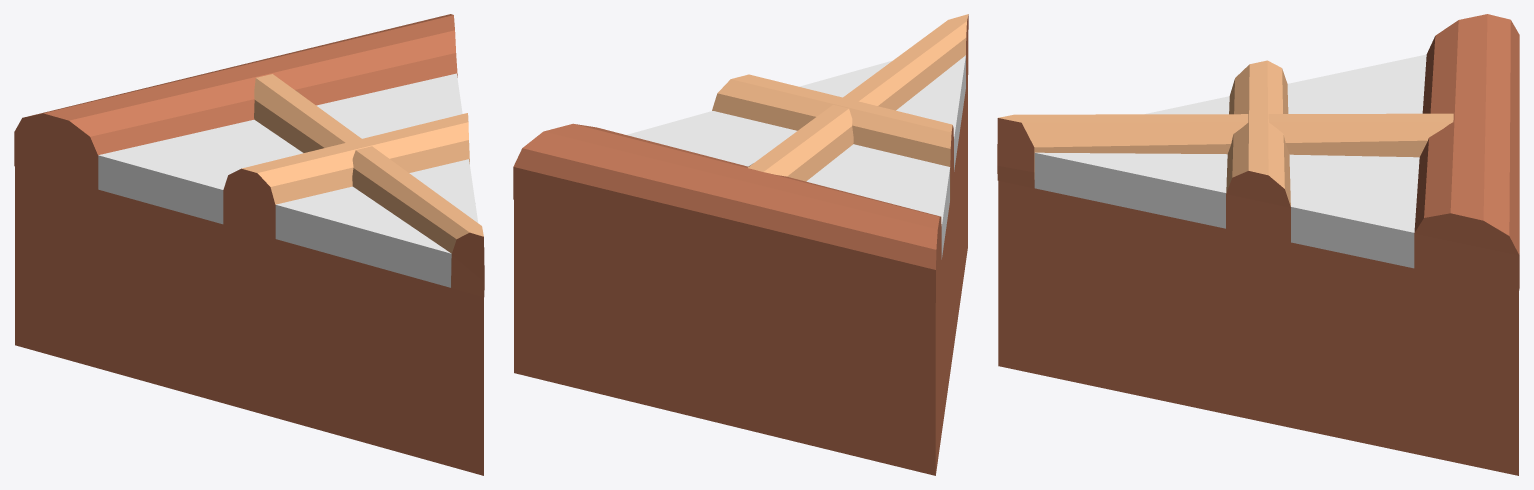
The model's file is Pie.fbx.
The picture shows the model from 3 angles, left to right: view 1: azimuth 30°, elevation 25°; view 2: azimuth 150°, elevation 25°; view 3: azimuth 270°, elevation 25°; orthographic projection. The views are drawn at different scales.
Visible parts, largest first — view 1: Pie; view 2: Pie; view 3: Pie.
Boxes of the visible parts, box(x1,y1,x2,y2) form: Pie: box(14, 14, 484, 475); Pie: box(513, 14, 968, 475); Pie: box(997, 14, 1519, 475).
Size of the model in its own units: 200 by 105 by 201.
